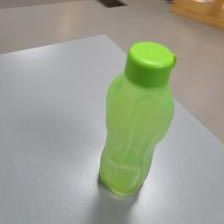bottle: (96, 39, 179, 200)
